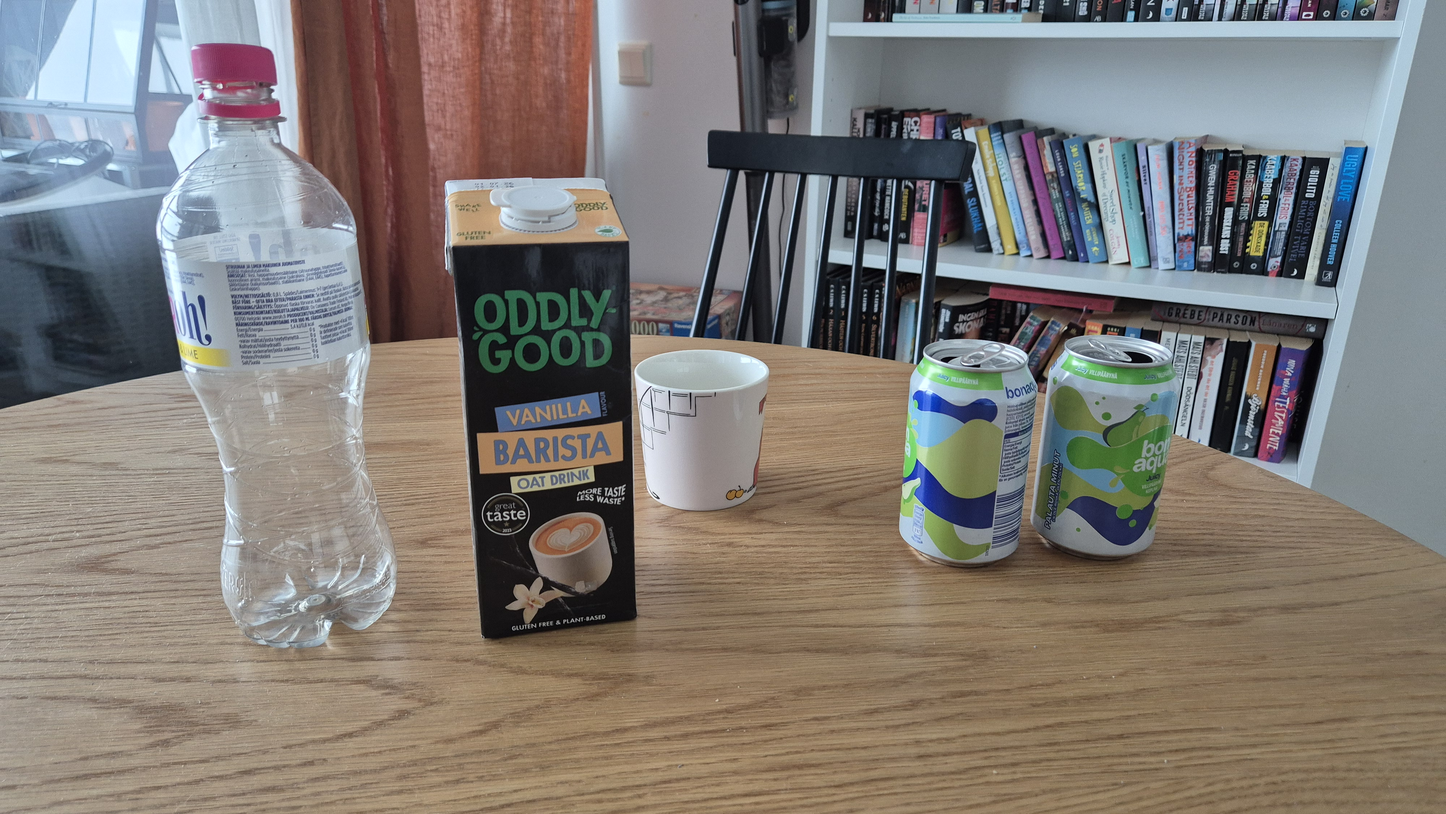Dryckeskartong: (445, 178, 637, 639)
Pantburk: (1030, 335, 1181, 560), (899, 339, 1038, 568)
